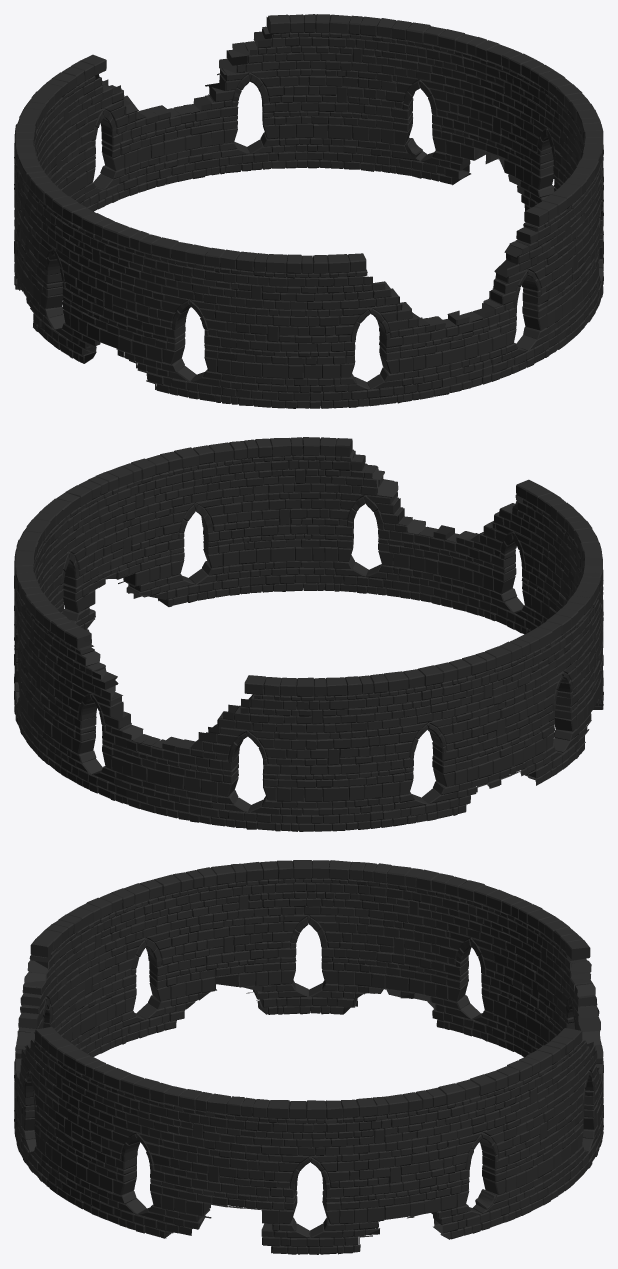
The model's file is ArenaWall3.fbx.
3 views of the same model, one above another, from view 1: azimuth 30°, elevation 25°; view 2: azimuth 150°, elevation 25°; view 3: azimuth 270°, elevation 25° (orthographic).
Parts seen in each view (by area): view 1: Wall; view 2: Wall; view 3: Wall.
Part boxes in pixels (x1,y1,x2,y2): Wall: (14, 14, 603, 408); Wall: (14, 437, 603, 831); Wall: (14, 860, 603, 1254).
Bounding box in the file's own units: 9892 × 2725 × 9889.
Materials: 1 (1 with a texture image).
